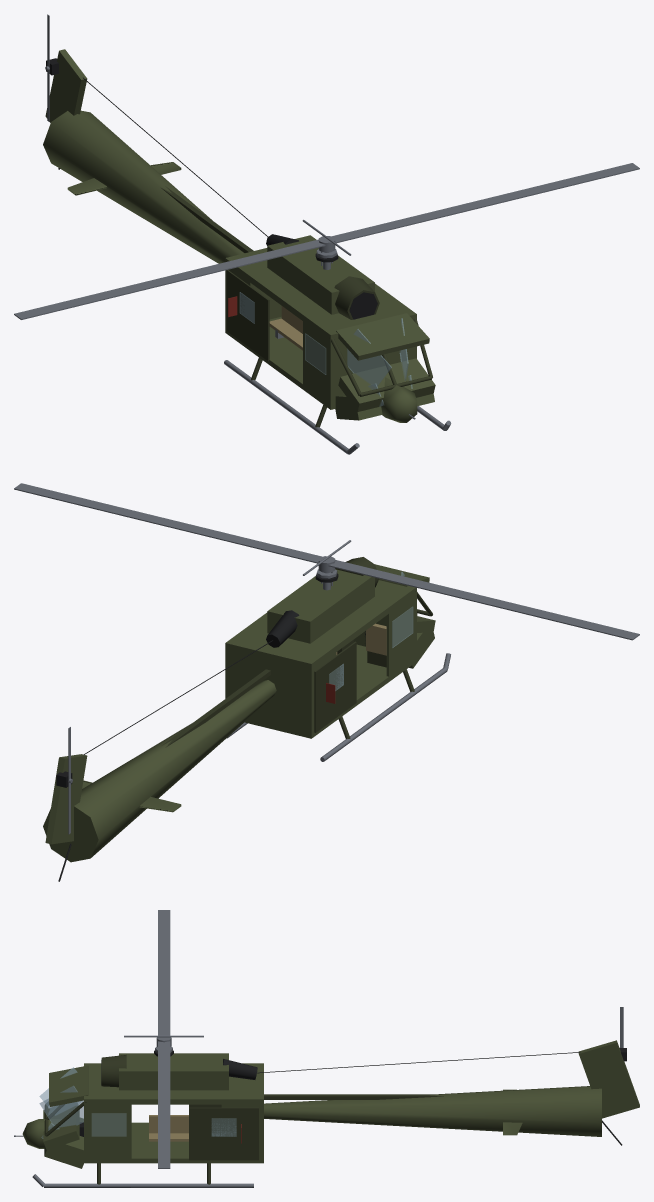
The model's file is uh-1h-huey-transport.glb.
The picture shows the model from 3 angles, top to bottom: view 1: azimuth 30°, elevation 25°; view 2: azimuth 150°, elevation 25°; view 3: azimuth 270°, elevation 25°; orthographic projection. The views are drawn at different scales.
Visible parts, largest first — view 1: Mesh_TailBoom, Mesh_Ceiling, Mesh_EngineDoghouse, Mesh_CockpitCeiling, Mesh_BladeR, Mesh_BladeL, Mesh_SlidingDoorR, Mesh_NoseDeck, Mesh_TailFin, Mesh_FrontDoorR, Mesh_Floor, Mesh_FrontWall (+6 smaller); view 2: Mesh_TailBoom, Mesh_Ceiling, Mesh_RearWall, Mesh_EngineDoghouse, Mesh_BladeR, Mesh_BladeL, Mesh_SlidingDoorR, Mesh_TailFin, Mesh_Floor, Mesh_FrontDoorR, Mesh_ShaftCover, Mesh_SkidR (+3 smaller); view 3: Mesh_TailBoom, Mesh_SlidingDoorL, Mesh_EngineDoghouse, Mesh_Ceiling, Mesh_TailFin, Mesh_FrontDoorL, Mesh_Floor, Mesh_BladeL, Mesh_BladeR, Mesh_CockpitCeiling, Mesh_SkidL, Mesh_NoseDeck (+10 smaller).
Part boxes in pixels (<box>): Mesh_TailBoom: <box>43,110,244,263</box>; Mesh_Ceiling: <box>225,248,416,341</box>; Mesh_EngineDoghouse: <box>267,235,374,314</box>; Mesh_CockpitCeiling: <box>336,313,429,360</box>; Mesh_BladeR: <box>14,239,325,319</box>; Mesh_BladeL: <box>331,163,639,243</box>; Mesh_SlidingDoorR: <box>227,270,269,361</box>; Mesh_NoseDeck: <box>338,358,435,411</box>; Mesh_TailFin: <box>45,49,87,122</box>; Mesh_FrontDoorR: <box>303,321,329,402</box>; Mesh_Floor: <box>225,316,335,409</box>; Mesh_FrontWall: <box>328,339,416,404</box>; Mesh_TailBoom: <box>43,680,276,862</box>; Mesh_Ceiling: <box>225,580,416,670</box>; Mesh_RearWall: <box>225,649,314,733</box>; Mesh_EngineDoghouse: <box>267,569,374,643</box>; Mesh_BladeR: <box>328,560,639,640</box>; Mesh_BladeL: <box>14,483,322,563</box>; Mesh_SlidingDoorR: <box>314,641,356,732</box>; Mesh_TailFin: <box>45,754,87,844</box>; Mesh_Floor: <box>244,644,416,738</box>; Mesh_FrontDoorR: <box>386,595,413,676</box>; Mesh_ShaftCover: <box>161,669,270,747</box>; Mesh_SkidR: <box>320,667,447,761</box>; Mesh_TailBoom: <box>264,1086,601,1136</box>; Mesh_SlidingDoorL: <box>189,1107,258,1160</box>; Mesh_EngineDoghouse: <box>119,1053,228,1090</box>; Mesh_Ceiling: <box>84,1063,263,1104</box>; Mesh_TailFin: <box>578,1040,639,1118</box>; Mesh_FrontDoorL: <box>89,1104,131,1158</box>; Mesh_Floor: <box>84,1122,263,1163</box>; Mesh_BladeL: <box>158,1041,170,1168</box>; Mesh_BladeR: <box>158,910,170,1035</box>; Mesh_CockpitCeiling: <box>49,1065,88,1106</box>; Mesh_SkidL: <box>44,1183,253,1187</box>; Mesh_NoseDeck: <box>43,1102,79,1149</box>.
Size of the model in its own units: 12.2 by 3.45 by 12.51.
Materials: 2 (2 with a texture image).
